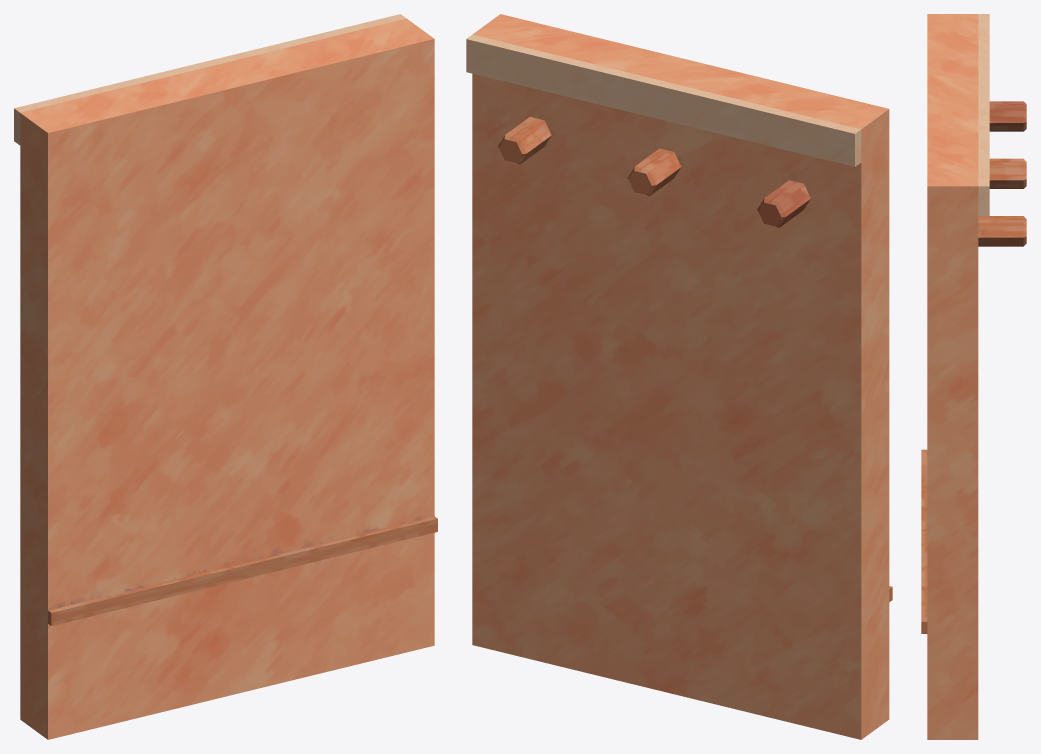
Rendered from wall2_upper_low.fbx.
The picture shows the model from 3 angles, left to right: view 1: azimuth 30°, elevation 25°; view 2: azimuth 150°, elevation 25°; view 3: azimuth 270°, elevation 25°; orthographic projection. The views are drawn at different scales.
Parts seen in each view (by area): view 1: wall2_upper; view 2: wall2_upper; view 3: wall2_upper.
Part boxes in pixels (x1,y1,x2,y2): wall2_upper: [14, 14, 437, 739]; wall2_upper: [466, 14, 892, 739]; wall2_upper: [921, 14, 1026, 739].
Size of the model in its own units: 8 by 12 by 2.07.
1 material, 1 textured.
